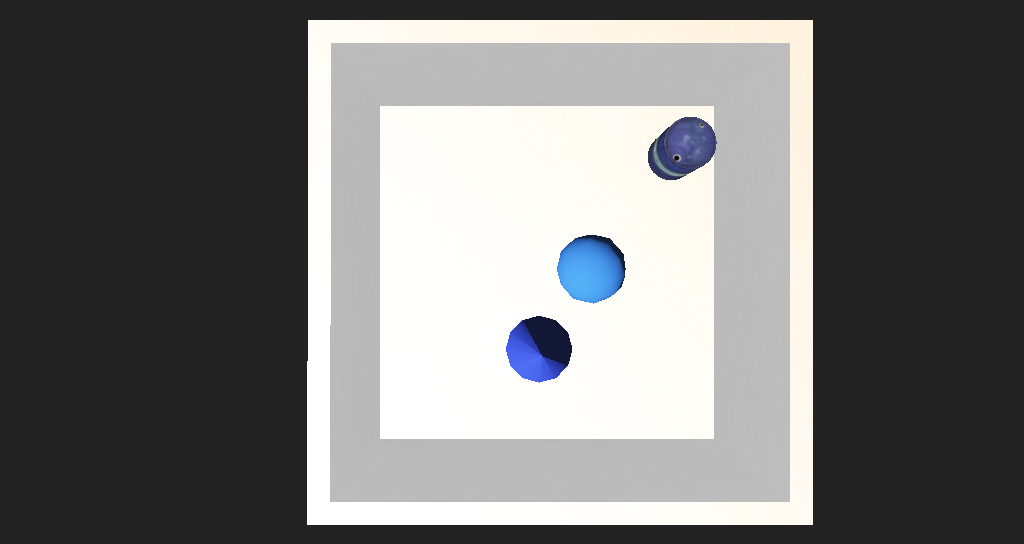cone: (600, 169, 653, 212)
cylinder: (468, 296, 529, 344)
sphere: (515, 246, 576, 289)
